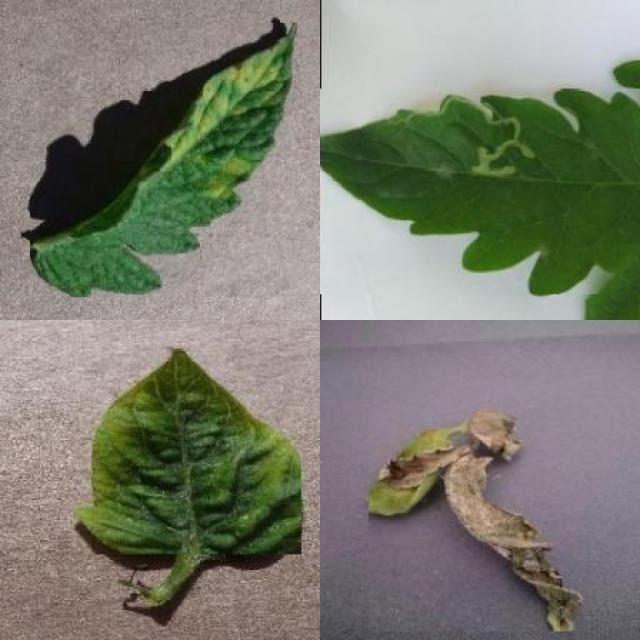Late Blight: (369, 412, 584, 632)
Leaf Miner: (320, 88, 640, 295)
Leaf Mold: (30, 23, 297, 297)
Yellow Leaf Curl Virus: (74, 348, 302, 555)
